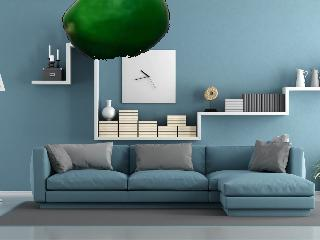lime: (62, 0, 169, 60)
